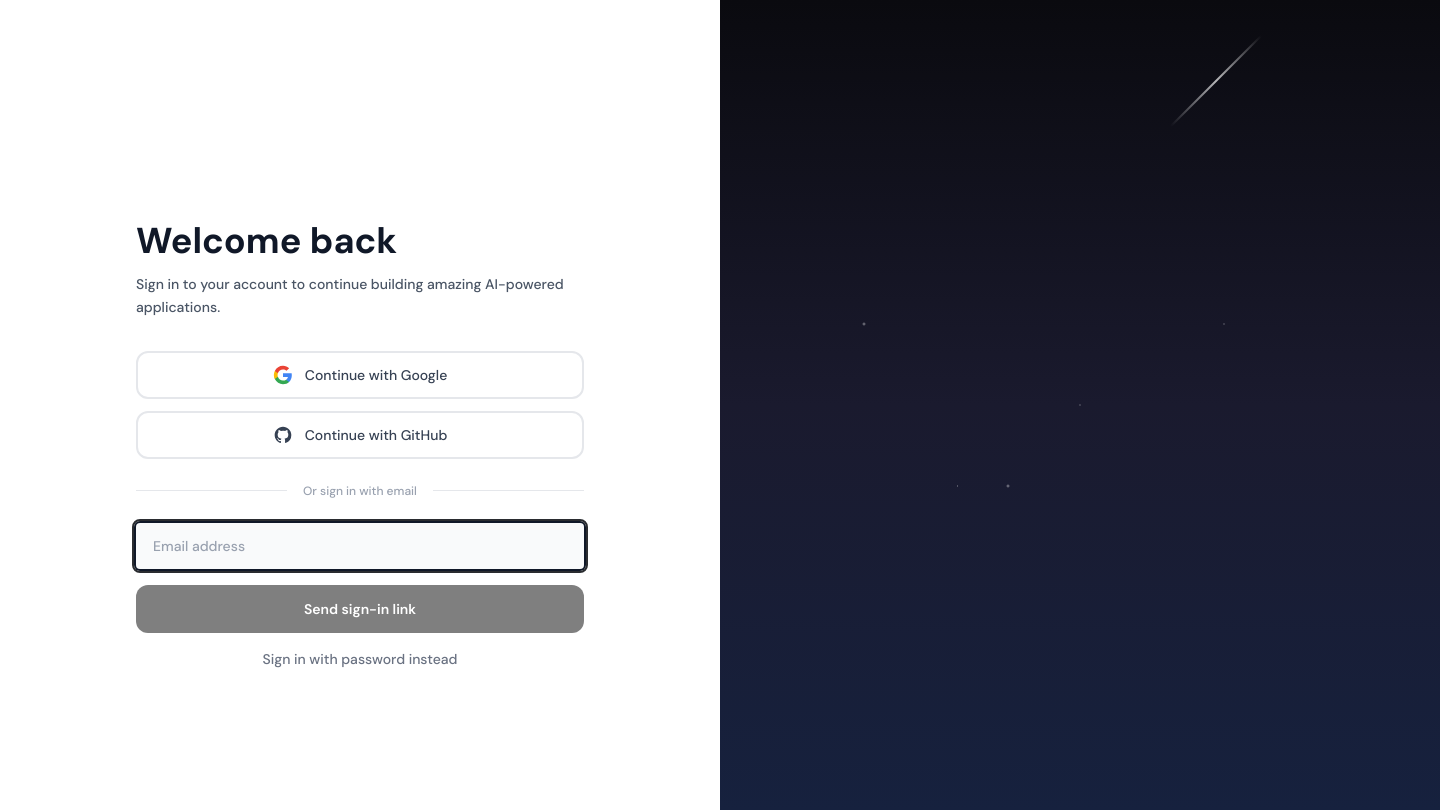
Test case: Login page: magic_link_login feature flag UI gating › flag ON, toggled to password: OAuth is hidden (password view is lean)
Click the toggle to reveal the password form.
Click the button "Sign in with password instead" at coordinates (360, 659), box [262,649,458,669]
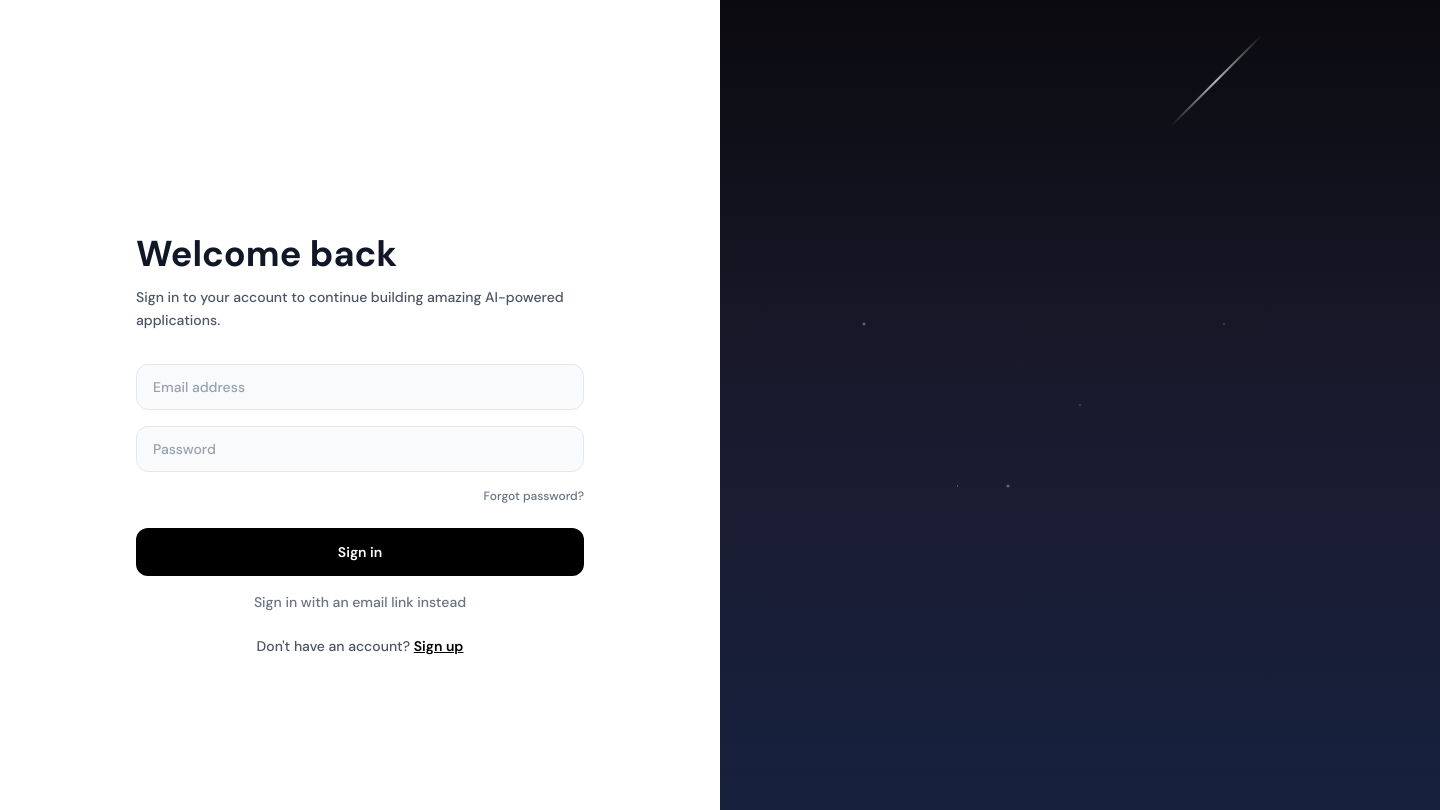
Expected: the password field with placeholder "Password" is shown, [136,426,584,472]
Expected: the button "Continue with Google" is gone
Expected: the button "Continue with GitHub" is gone
